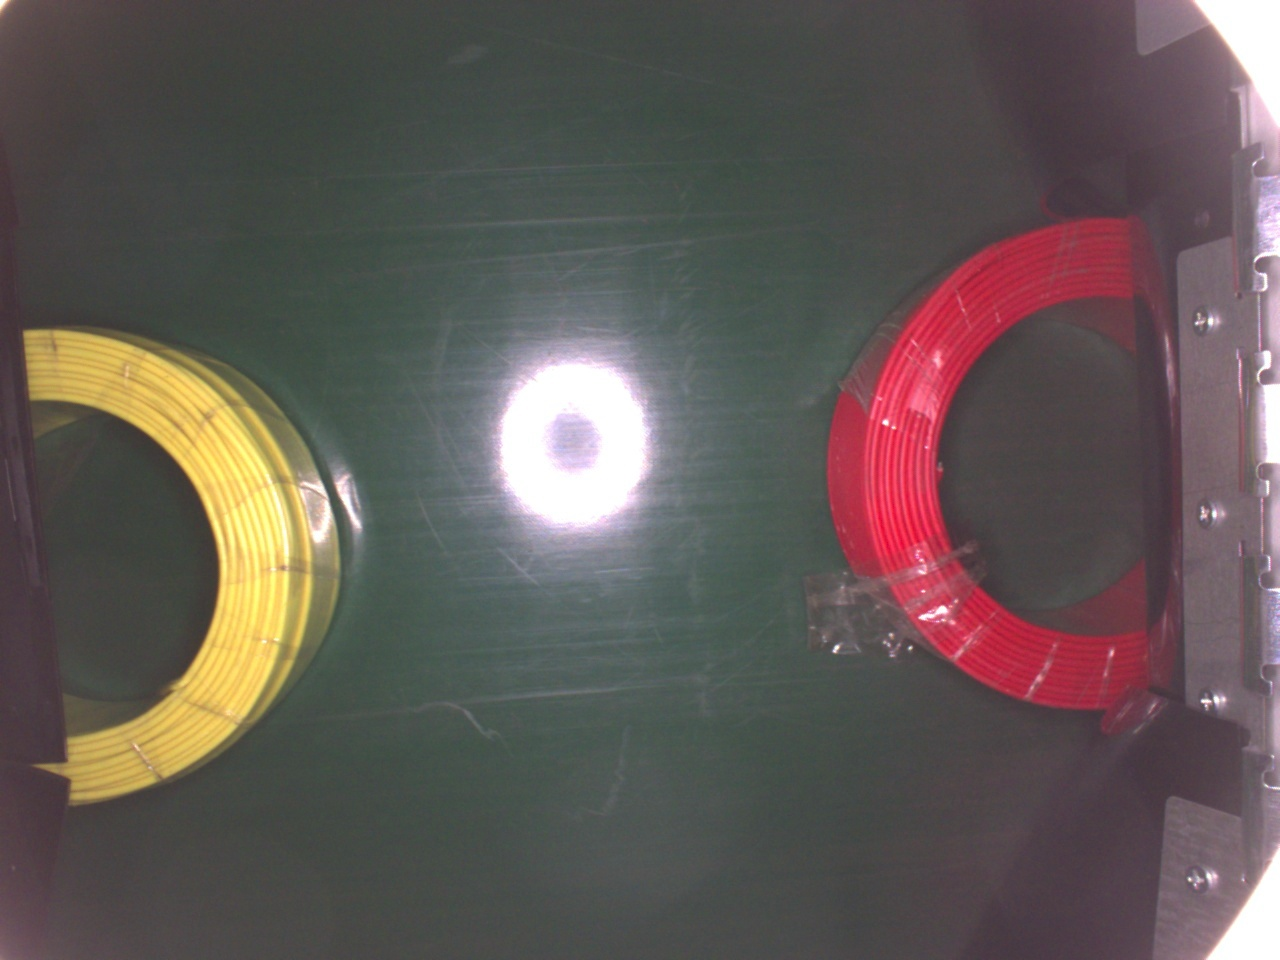red: (824, 214, 1161, 713)
yellow: (14, 324, 344, 817)
